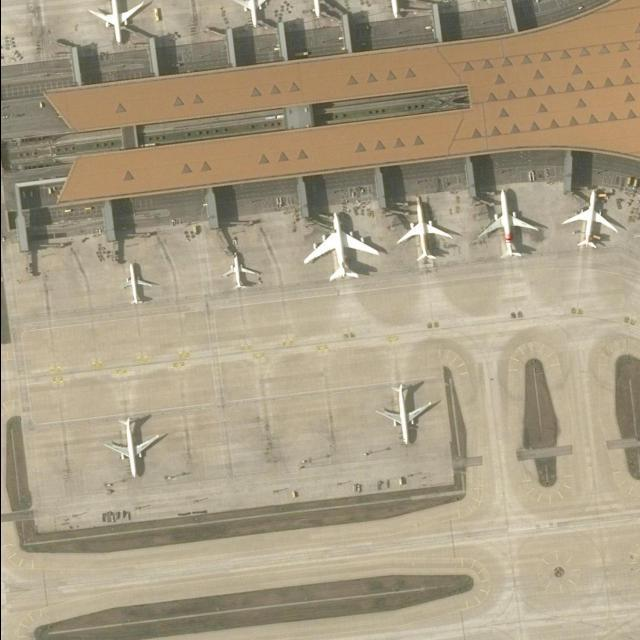Aircraft: (301, 209, 381, 283), (476, 186, 542, 262), (101, 412, 167, 482), (392, 194, 454, 266), (375, 381, 431, 449), (559, 190, 621, 250), (86, 1, 148, 47), (117, 259, 158, 308), (220, 249, 260, 291), (229, 0, 279, 31)
